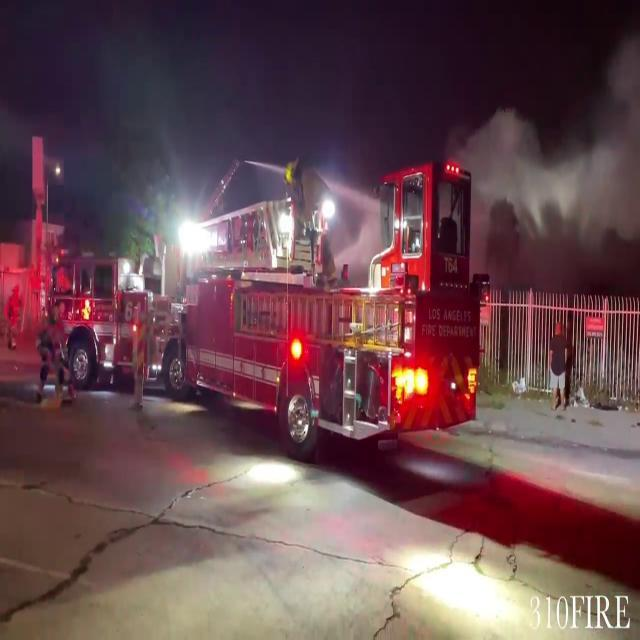Smoke: (470, 31, 640, 277)
